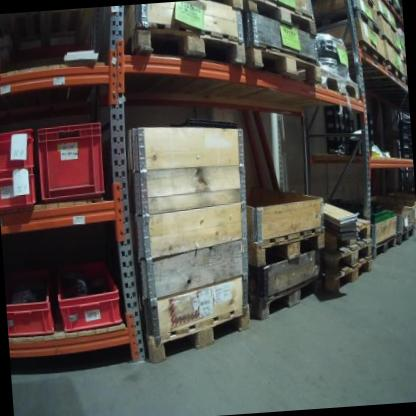pallet: (142, 306, 253, 366), (129, 17, 246, 72), (247, 40, 324, 86), (250, 225, 327, 270), (252, 276, 324, 323), (310, 7, 384, 46), (248, 0, 319, 38), (336, 40, 386, 76), (330, 259, 375, 295), (326, 242, 376, 274), (317, 65, 360, 100), (330, 223, 371, 253), (382, 55, 408, 92), (315, 0, 375, 14), (370, 234, 399, 260), (395, 225, 416, 246), (215, 0, 247, 13)
small_load_carrier: (37, 124, 106, 201), (56, 264, 122, 331), (5, 269, 58, 340), (0, 127, 38, 175), (0, 173, 40, 210)
